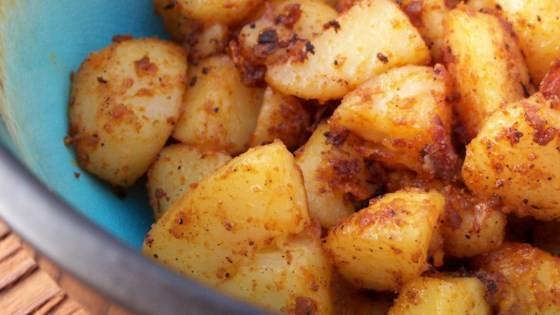AlooMasala: (67, 0, 560, 315)
